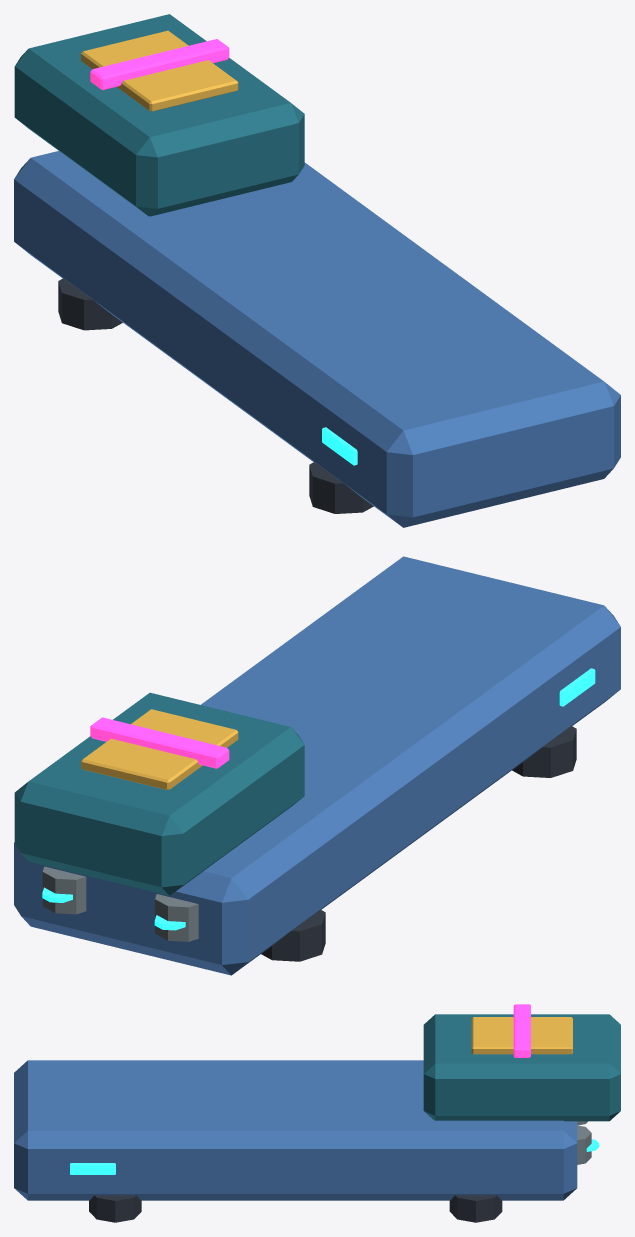
The model's file is vehicles_028_seed11.glb.
3 renders of one model, top to bottom at view 1: azimuth 30°, elevation 25°; view 2: azimuth 150°, elevation 25°; view 3: azimuth 270°, elevation 25°, orthographic. The views are drawn at different scales.
Parts seen in each view (by area): view 1: vehicles_028_seed11; view 2: vehicles_028_seed11; view 3: vehicles_028_seed11.
Boxes of the visible parts, bbox=[...] form: vehicles_028_seed11: bbox=[14, 14, 620, 527]; vehicles_028_seed11: bbox=[14, 556, 620, 975]; vehicles_028_seed11: bbox=[14, 1004, 620, 1222].
Bounding box in the file's own units: 1.97 × 1.55 × 5.54.
